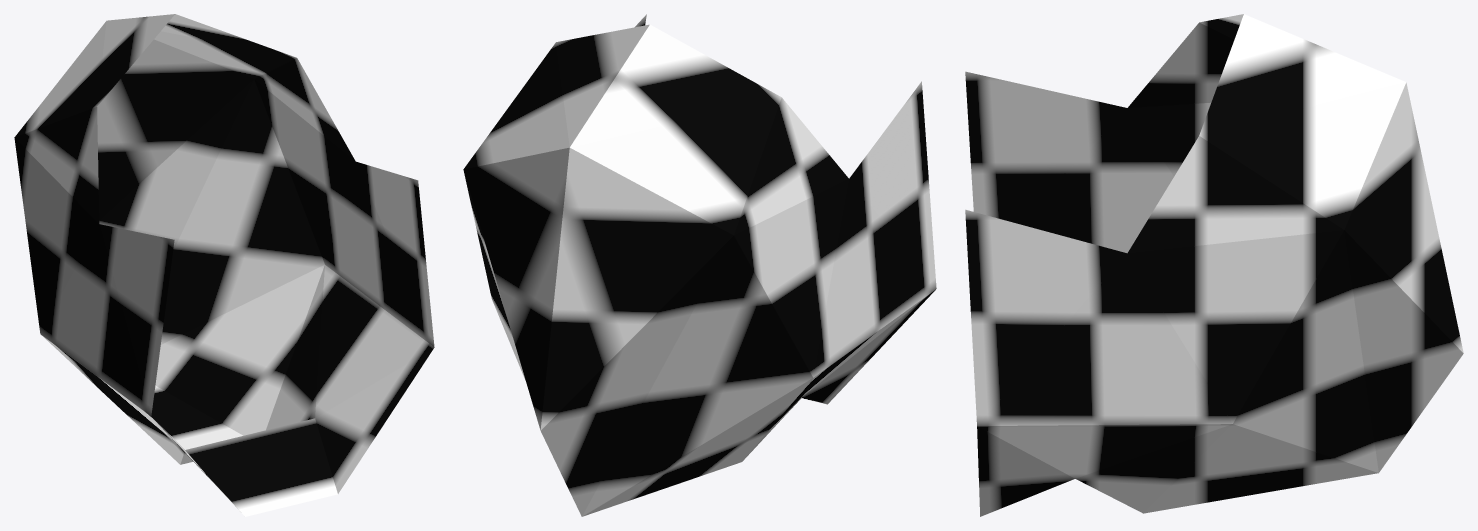
The model's file is initarhl9.dae.
3 renders of one model, left to right at view 1: azimuth 30°, elevation 25°; view 2: azimuth 150°, elevation 25°; view 3: azimuth 270°, elevation 25°, orthographic. The views are drawn at different scales.
Visible parts, largest first — view 1: armor; view 2: armor; view 3: armor.
Boxes of the visible parts, left/top/right/bottom form: armor: left=14, top=14, right=434, bottom=516; armor: left=463, top=14, right=936, bottom=516; armor: left=965, top=14, right=1463, bottom=516.
Size of the model in its own units: 0.8901 by 1.16 by 1.22.
Materials: 1 (1 with a texture image).
